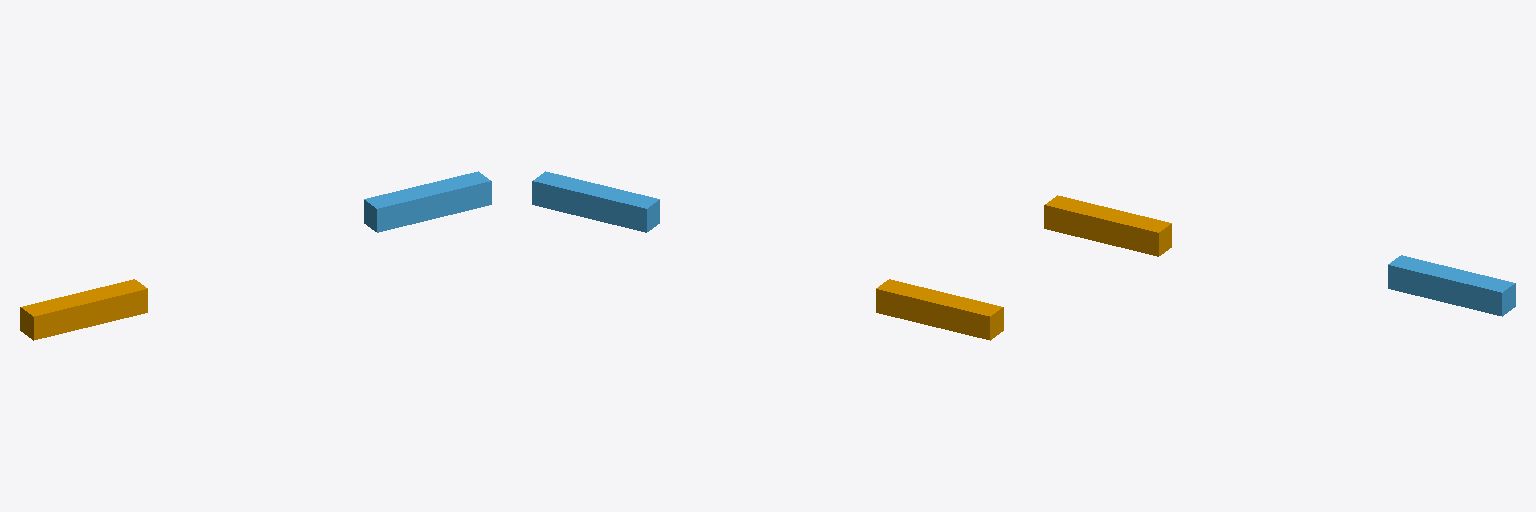
URDF robot description (my_robot):
<?xml version="1.0" ?>
<robot name="my_robot">

  <link name="link1">
    <visual>
      <origin xyz="0 0 0"/>
      <geometry>
        <box size="0.5 0.1 0.1"/>
      </geometry>
    </visual>
  </link>

  <joint name="joint1" type="revolute">
    <parent link="link1"/>
    <child link="link2"/>
    <origin xyz="0.5 0 0.1"/>
    <axis xyz="0 0 1"/>
    <limit lower="-1" upper="1" effort="1" velocity="1"/>
  </joint>

  <link name="link2">
    <visual>
      <origin xyz="1 0 0"/>
      <geometry>
        <box size="0.5 0.1 0.1"/>
      </geometry>
    </visual>
  </link>

</robot>

--- Facts derived from the render (not from the file) ---
3 views of the same robot in one strip: view 1: azimuth 30°, elevation 25°; view 2: azimuth 150°, elevation 25°; view 3: azimuth 330°, elevation 25° (orthographic).
Model my_robot with 2 links and 1 joints (1 revolute), rooted at link1, posed every joint at zero.
Links seen in each view (by area): view 1: link1, link2; view 2: link1, link2; view 3: link1, link2.
Boxes of the visible links, x1=… form: link1: x1=20, y1=279, x2=147, y2=340; link2: x1=364, y1=171, x2=491, y2=232; link1: x1=876, y1=279, x2=1003, y2=340; link2: x1=532, y1=171, x2=659, y2=232; link1: x1=1044, y1=195, x2=1171, y2=256; link2: x1=1388, y1=255, x2=1515, y2=316.
Bounding box of the posed robot: 2 × 0.1 × 0.2 m (x, y, z).
Geometry: primitives only (box / cylinder / sphere), no mesh files.
